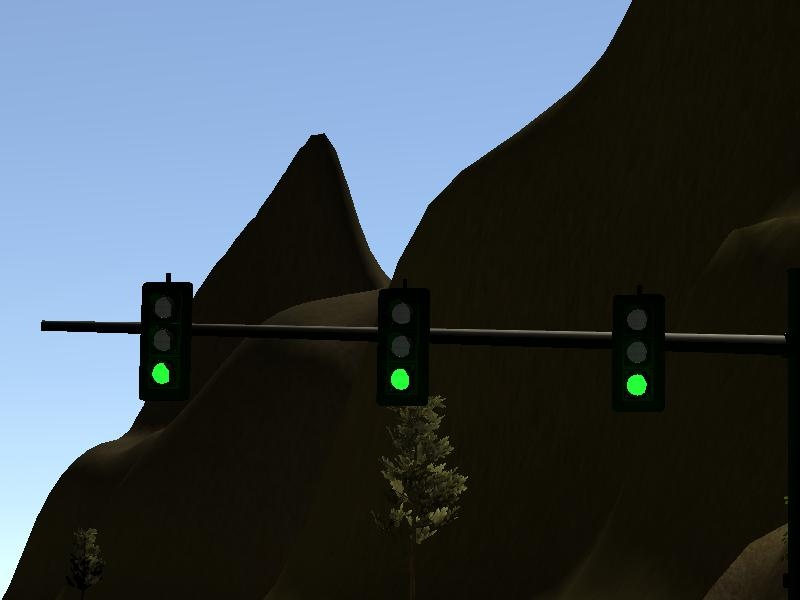green: (125, 272, 198, 414), (369, 271, 435, 419), (610, 285, 668, 417)
